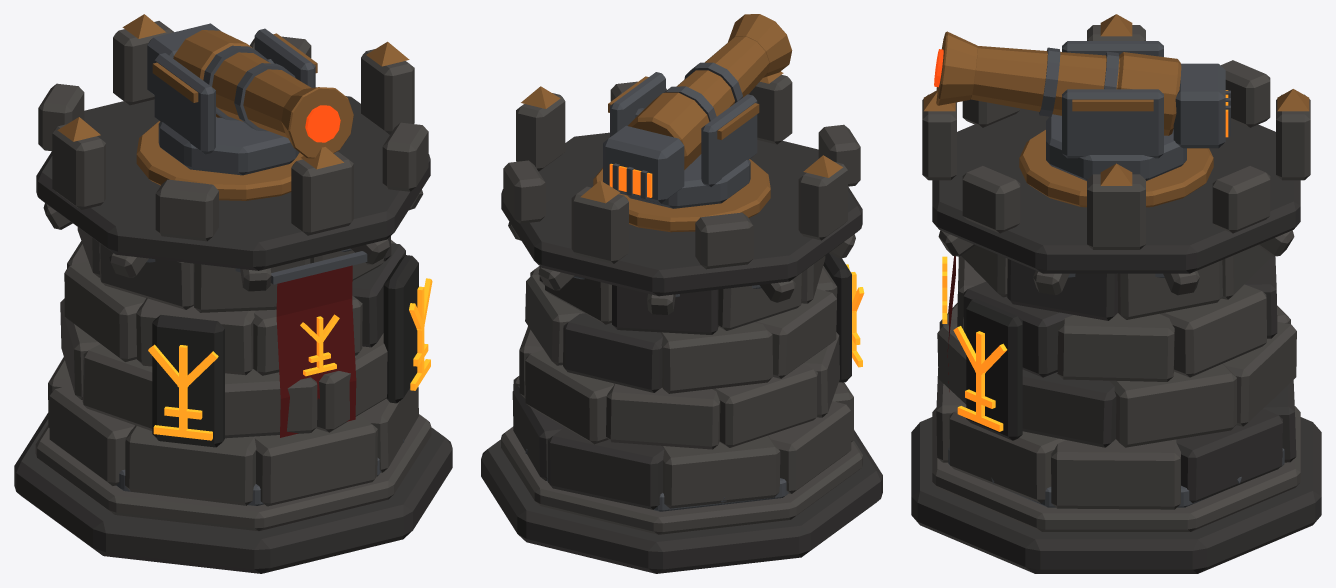
Rendered from cannon_tower_lvl2.glb.
The picture shows the model from 3 angles, left to right: view 1: azimuth 30°, elevation 25°; view 2: azimuth 150°, elevation 25°; view 3: azimuth 270°, elevation 25°; orthographic projection. The views are drawn at different scales.
Visible parts, largest first — view 1: Platform, Plinth, Plinth_Step, Banner, Block_0_6, Block_0_5, RuneStone_1, Block_1_5, Turret_Base, Block_0_4, Block_2_4, Block_1_4 (+36 smaller); view 2: Platform, Plinth, Plinth_Step, Block_0_2, Block_0_3, Block_2_3, Block_1_2, Block_2_2, Block_1_3, Block_1_1, Block_0_4, Furnace (+32 smaller); view 3: Platform, Plinth, Plinth_Step, Block_0_0, Block_1_0, Block_2_0, Block_0_1, Barrel_Tube, Block_2_1, Block_0_7, Block_1_7, Cheek_R (+35 smaller).
Part boxes in pixels (x1=…): Platform: x1=36, y1=96, x2=430, y2=270; Plinth: x1=14, y1=413, x2=452, y2=573; Plinth_Step: x1=35, y1=414, x2=431, y2=531; Banner: x1=276, y1=265, x2=356, y2=437; Block_0_6: x1=254, y1=414, x2=377, y2=506; Block_0_5: x1=125, y1=425, x2=256, y2=505; RuneStone_1: x1=152, y1=315, x2=224, y2=447; Block_1_5: x1=225, y1=369, x2=317, y2=438; Turret_Base: x1=158, y1=117, x2=299, y2=175; Block_0_4: x1=49, y1=385, x2=134, y2=485; Block_2_4: x1=64, y1=261, x2=145, y2=361; Block_1_4: x1=82, y1=344, x2=152, y2=430; Platform: x1=501, y1=132, x2=862, y2=296; Plinth: x1=481, y1=430, x2=882, y2=573; Plinth_Step: x1=501, y1=426, x2=862, y2=534; Block_0_2: x1=548, y1=427, x2=664, y2=509; Block_0_3: x1=662, y1=435, x2=780, y2=508; Block_2_3: x1=660, y1=322, x2=772, y2=393; Block_1_2: x1=606, y1=383, x2=720, y2=449; Block_2_2: x1=563, y1=313, x2=662, y2=392; Block_1_3: x1=712, y1=363, x2=817, y2=447; Block_1_1: x1=525, y1=350, x2=614, y2=444; Block_0_4: x1=768, y1=401, x2=851, y2=493; Furnace: x1=603, y1=125, x2=684, y2=203; Platform: x1=932, y1=108, x2=1300, y2=273; Plinth: x1=911, y1=417, x2=1321, y2=573; Plinth_Step: x1=932, y1=406, x2=1300, y2=531; Block_0_0: x1=1051, y1=439, x2=1180, y2=509; Block_1_0: x1=1109, y1=363, x2=1236, y2=447; Block_2_0: x1=1057, y1=313, x2=1174, y2=381; Block_0_1: x1=1176, y1=409, x2=1282, y2=502; Barrel_Tube: x1=971, y1=45, x2=1119, y2=115; Block_2_1: x1=1159, y1=284, x2=1266, y2=377; Block_0_7: x1=949, y1=407, x2=1065, y2=503; Block_1_7: x1=1022, y1=369, x2=1116, y2=447; Cheek_R: x1=1062, y1=89, x2=1163, y2=158.
Size of the model in its own units: 2.37 by 2.9 by 2.37.
